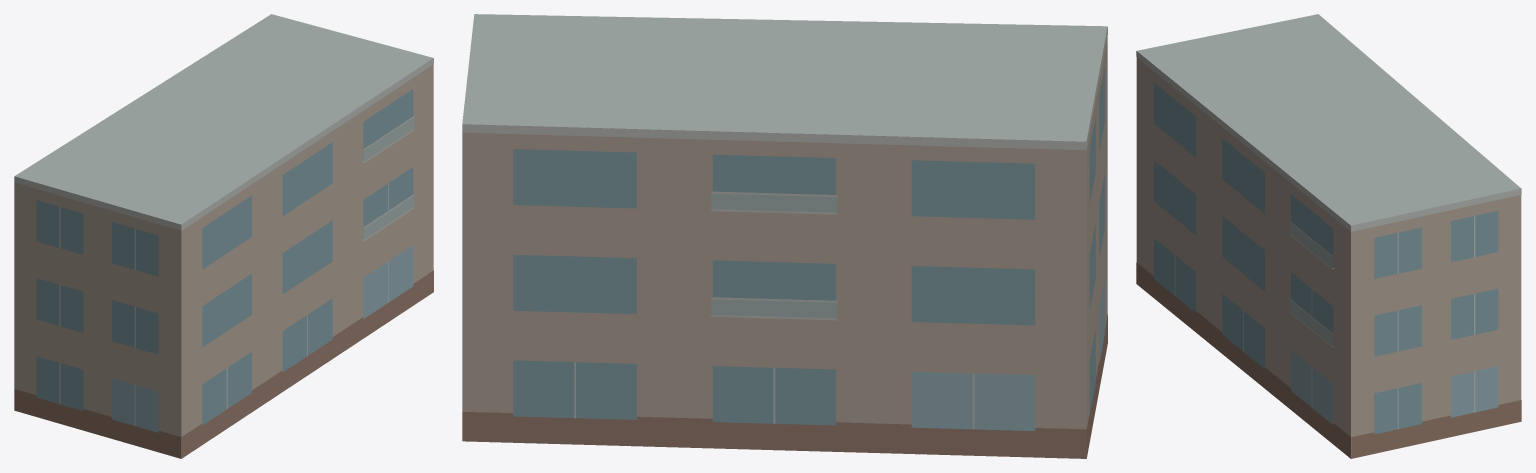
File: survey-upis-32589789.glb
3 views of the same model, side by side, from view 1: azimuth 30°, elevation 25°; view 2: azimuth 150°, elevation 25°; view 3: azimuth 270°, elevation 25° (orthographic). The views are drawn at different scales.
Parts seen in each view (by area): view 1: survey-upis-32589789.tmp; view 2: survey-upis-32589789.tmp; view 3: survey-upis-32589789.tmp.
Boxes of the visible parts, x1=… form: survey-upis-32589789.tmp: x1=14, y1=14, x2=433, y2=458; survey-upis-32589789.tmp: x1=462, y1=14, x2=1107, y2=458; survey-upis-32589789.tmp: x1=1136, y1=14, x2=1521, y2=458.
Bounding box in the file's own units: 17.83 × 9.15 × 13.7.
